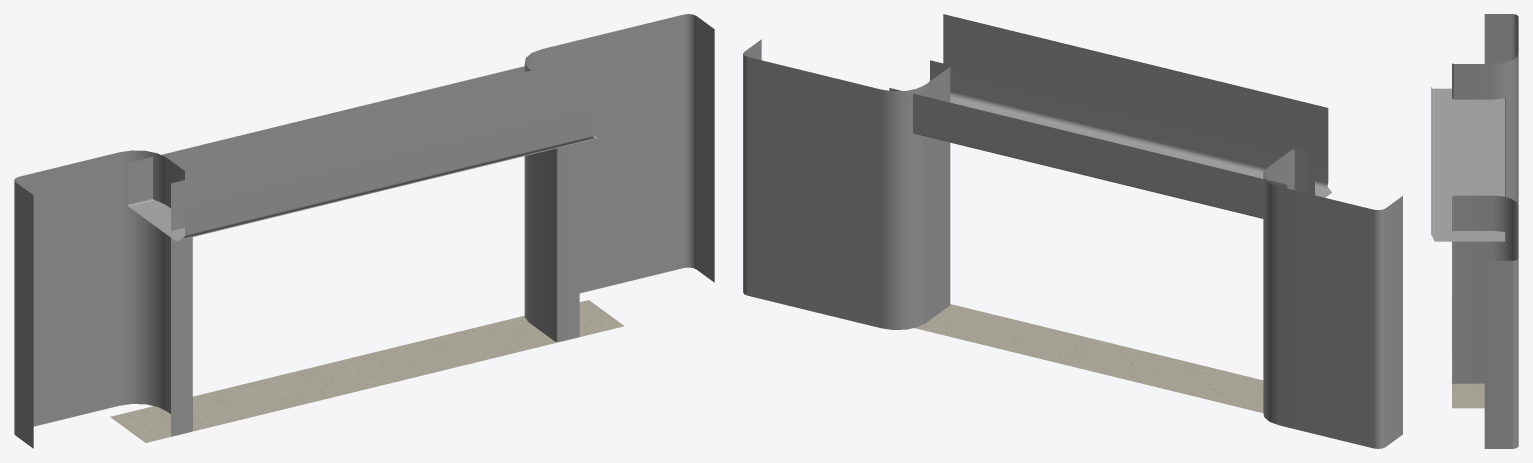
File: ElevatorBatteryWallTransition.fbx
The picture shows the model from 3 angles, left to right: view 1: azimuth 30°, elevation 25°; view 2: azimuth 150°, elevation 25°; view 3: azimuth 270°, elevation 25°; orthographic projection. The views are drawn at different scales.
Visible parts, largest first — view 1: pCube41, pCube42, pCube48, Lvl2_Floor29; view 2: pCube41, pCube48, pCube42, Lvl2_Floor29; view 3: pCube41, pCube48, pCube42, Lvl2_Floor29.
Boxes of the visible parts, left/top/right/bottom form: pCube41: left=524, top=14, right=714, bottom=342; pCube42: left=14, top=150, right=192, bottom=448; pCube48: left=128, top=55, right=597, bottom=240; Lvl2_Floor29: left=110, top=300, right=624, bottom=442; pCube41: left=743, top=39, right=950, bottom=329; pCube48: left=889, top=14, right=1331, bottom=218; pCube42: left=1263, top=149, right=1402, bottom=448; Lvl2_Floor29: left=914, top=304, right=1263, bottom=412; pCube41: left=1452, top=195, right=1518, bottom=448; pCube48: left=1431, top=87, right=1505, bottom=241; pCube42: left=1452, top=14, right=1518, bottom=205; Lvl2_Floor29: left=1452, top=383, right=1484, bottom=408.
Size of the model in its own units: 1158 by 475 by 173.
Materials: 2 (1 with a texture image).
